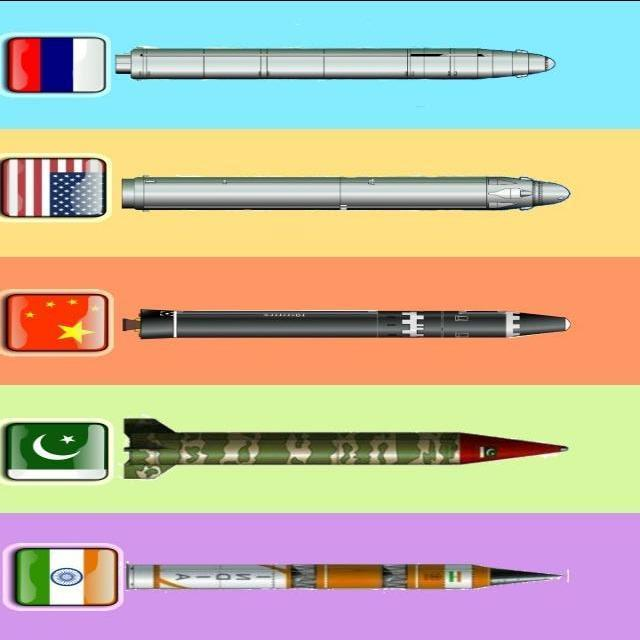Missile: (115, 412, 577, 483), (105, 168, 579, 224), (102, 46, 567, 91), (123, 555, 569, 591), (117, 305, 583, 338)
